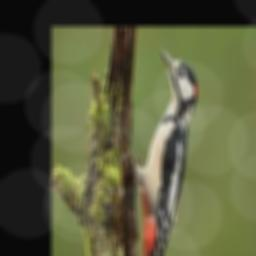Woodpecker: (120, 47, 197, 256)
